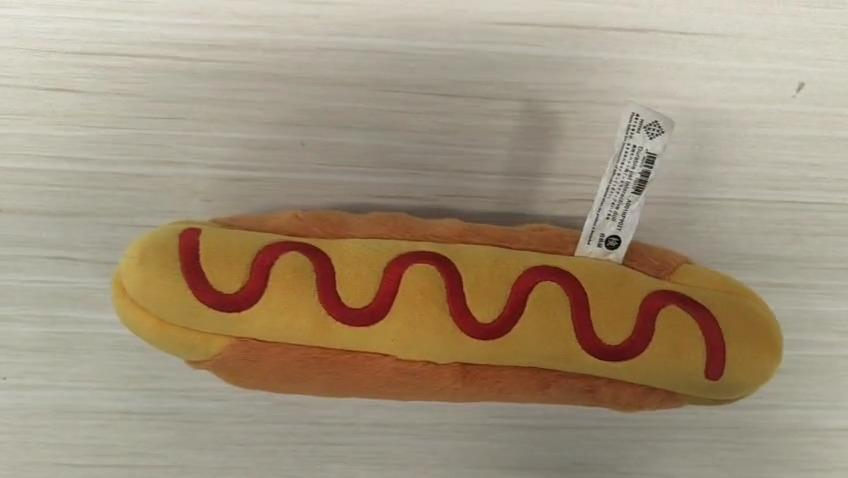hotdog: (111, 207, 784, 411)
